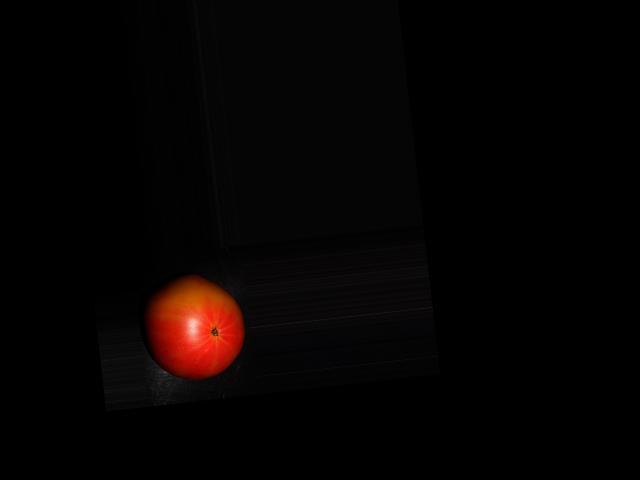tomato: (137, 269, 249, 384)
